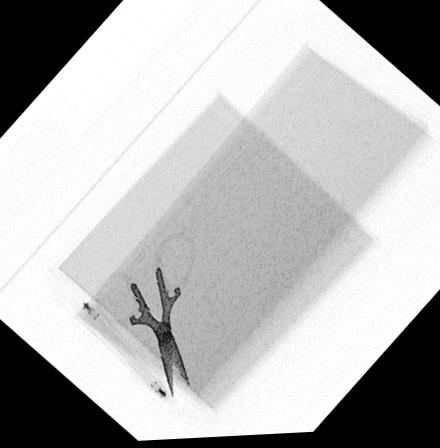Scissors: (93, 229, 199, 402)
